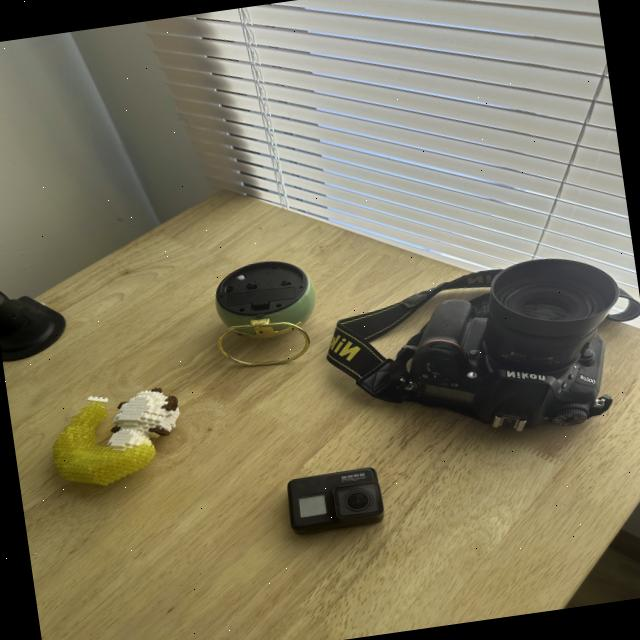Clock: (21, 361, 234, 515)
actioncam: (266, 438, 422, 555)
camera: (295, 233, 640, 479)
clock: (170, 226, 368, 390)
